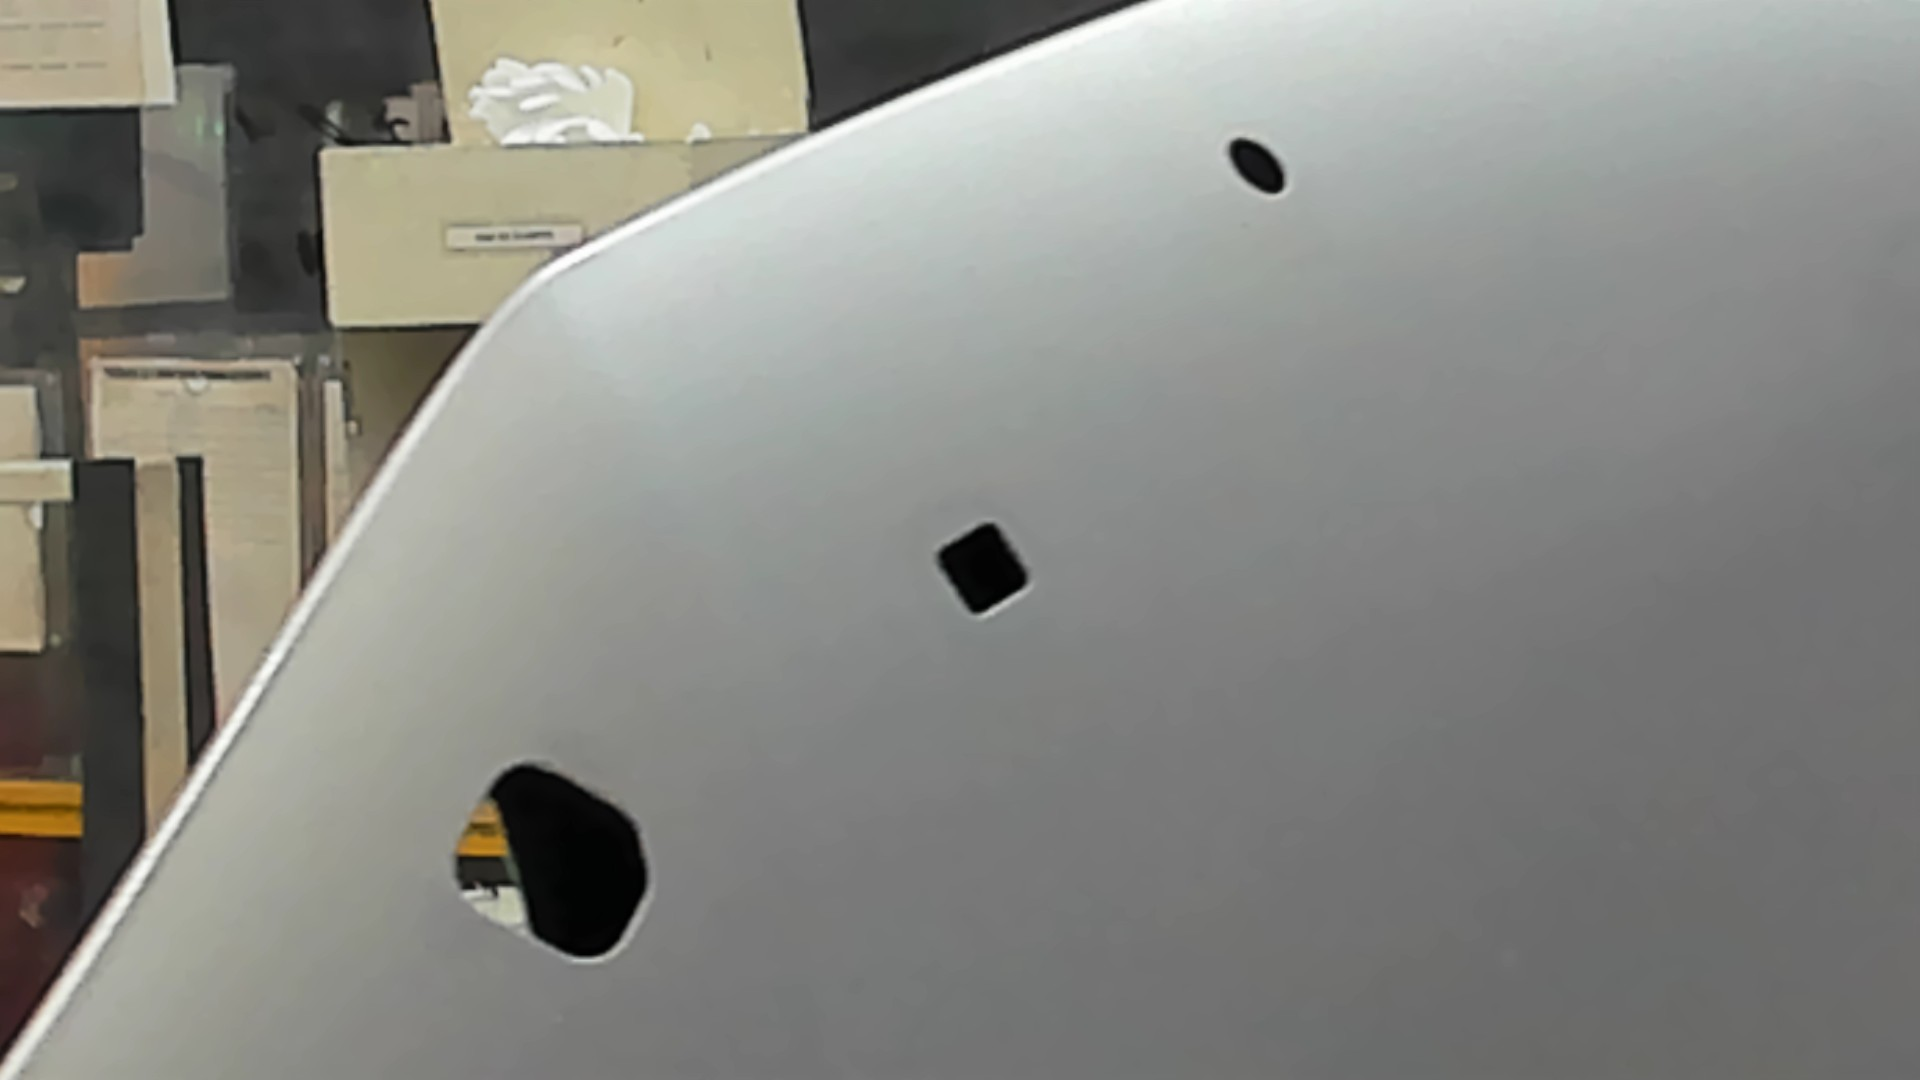Agujero: (934, 518, 1033, 618), (1224, 136, 1288, 196)
Agujerote: (450, 760, 651, 964)
